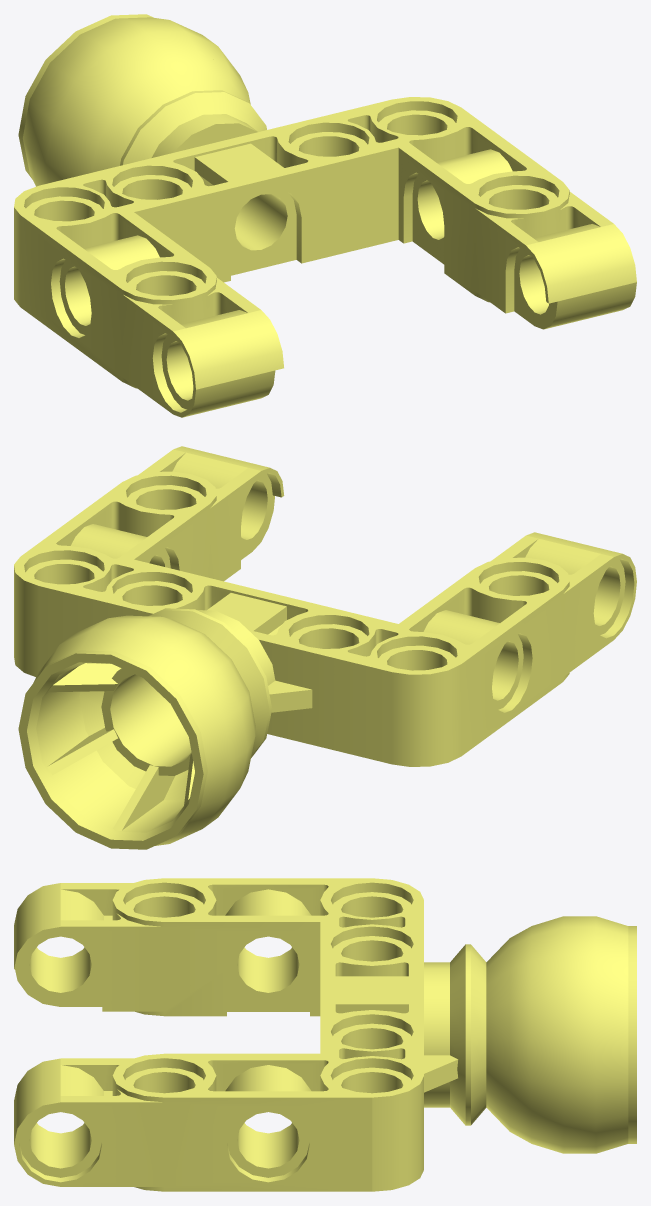
3 renders of one model, top to bottom at view 1: azimuth 30°, elevation 25°; view 2: azimuth 150°, elevation 25°; view 3: azimuth 270°, elevation 25°, orthographic.
Visible parts, largest first — view 1: 92910.dat; view 2: 92910.dat; view 3: 92910.dat.
Part boxes in pixels (<box>): 92910.dat: <box>14,14,636,417</box>; 92910.dat: <box>14,446,636,849</box>; 92910.dat: <box>14,878,636,1191</box>.
Bounding box in the file's own units: 0.04 × 0.0183 × 0.048.
